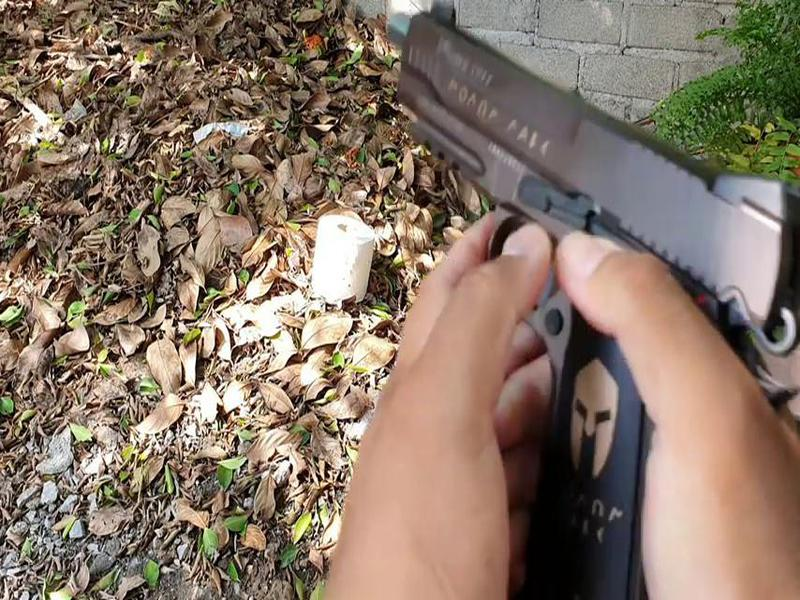Pistola: (354, 14, 800, 581)
